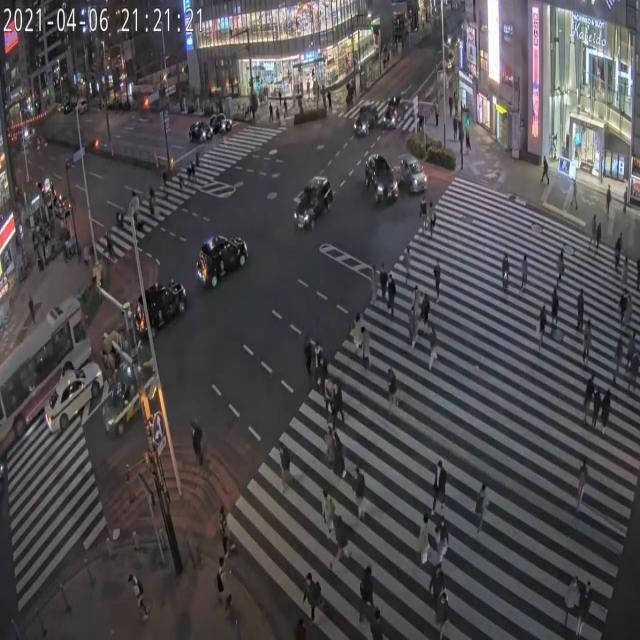humans: (211, 549, 236, 624), (381, 360, 407, 426), (577, 452, 597, 526), (432, 444, 454, 510), (474, 478, 495, 545), (273, 436, 293, 506), (187, 417, 210, 476), (553, 229, 574, 292), (120, 565, 148, 610), (332, 425, 353, 484), (214, 499, 236, 555), (350, 463, 369, 521), (332, 504, 350, 562), (331, 378, 351, 430), (418, 508, 434, 572), (303, 571, 323, 622), (590, 369, 606, 429), (318, 483, 336, 536), (546, 278, 561, 340), (298, 328, 314, 384), (438, 585, 454, 640), (580, 569, 594, 631), (566, 560, 579, 626), (426, 322, 441, 378), (366, 261, 382, 309), (432, 254, 447, 304), (361, 557, 373, 617), (316, 332, 330, 383), (575, 270, 586, 334), (582, 305, 594, 363), (321, 422, 336, 468), (501, 239, 511, 308), (584, 356, 594, 424), (604, 386, 615, 443), (612, 336, 622, 397), (522, 248, 534, 298), (408, 302, 419, 354), (611, 225, 622, 277), (422, 290, 435, 332), (351, 306, 365, 343), (379, 257, 390, 301), (426, 202, 438, 242), (622, 295, 636, 328), (630, 347, 640, 393), (542, 295, 549, 355), (363, 324, 373, 365), (390, 274, 400, 315), (620, 255, 633, 286), (627, 332, 637, 369), (418, 196, 428, 232), (593, 217, 603, 253), (402, 246, 412, 280), (410, 277, 418, 318), (620, 286, 627, 325), (590, 208, 594, 251)
